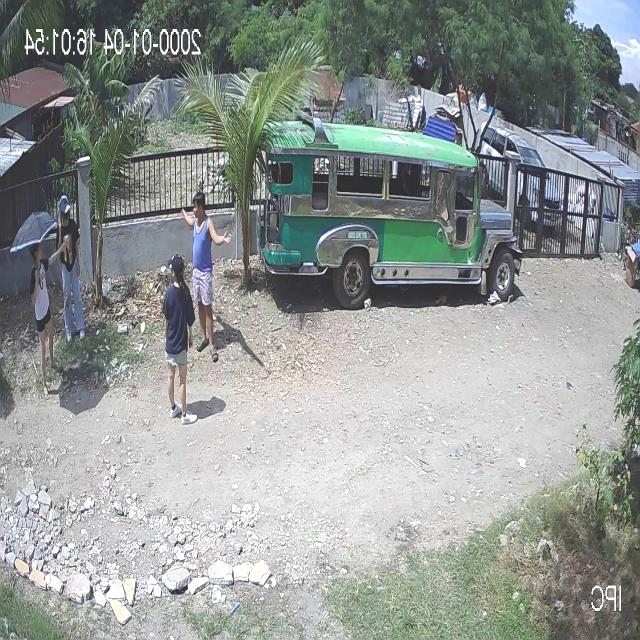standing: (175, 188, 220, 362), (166, 251, 199, 426), (54, 194, 86, 344)
walking: (32, 233, 60, 400)
